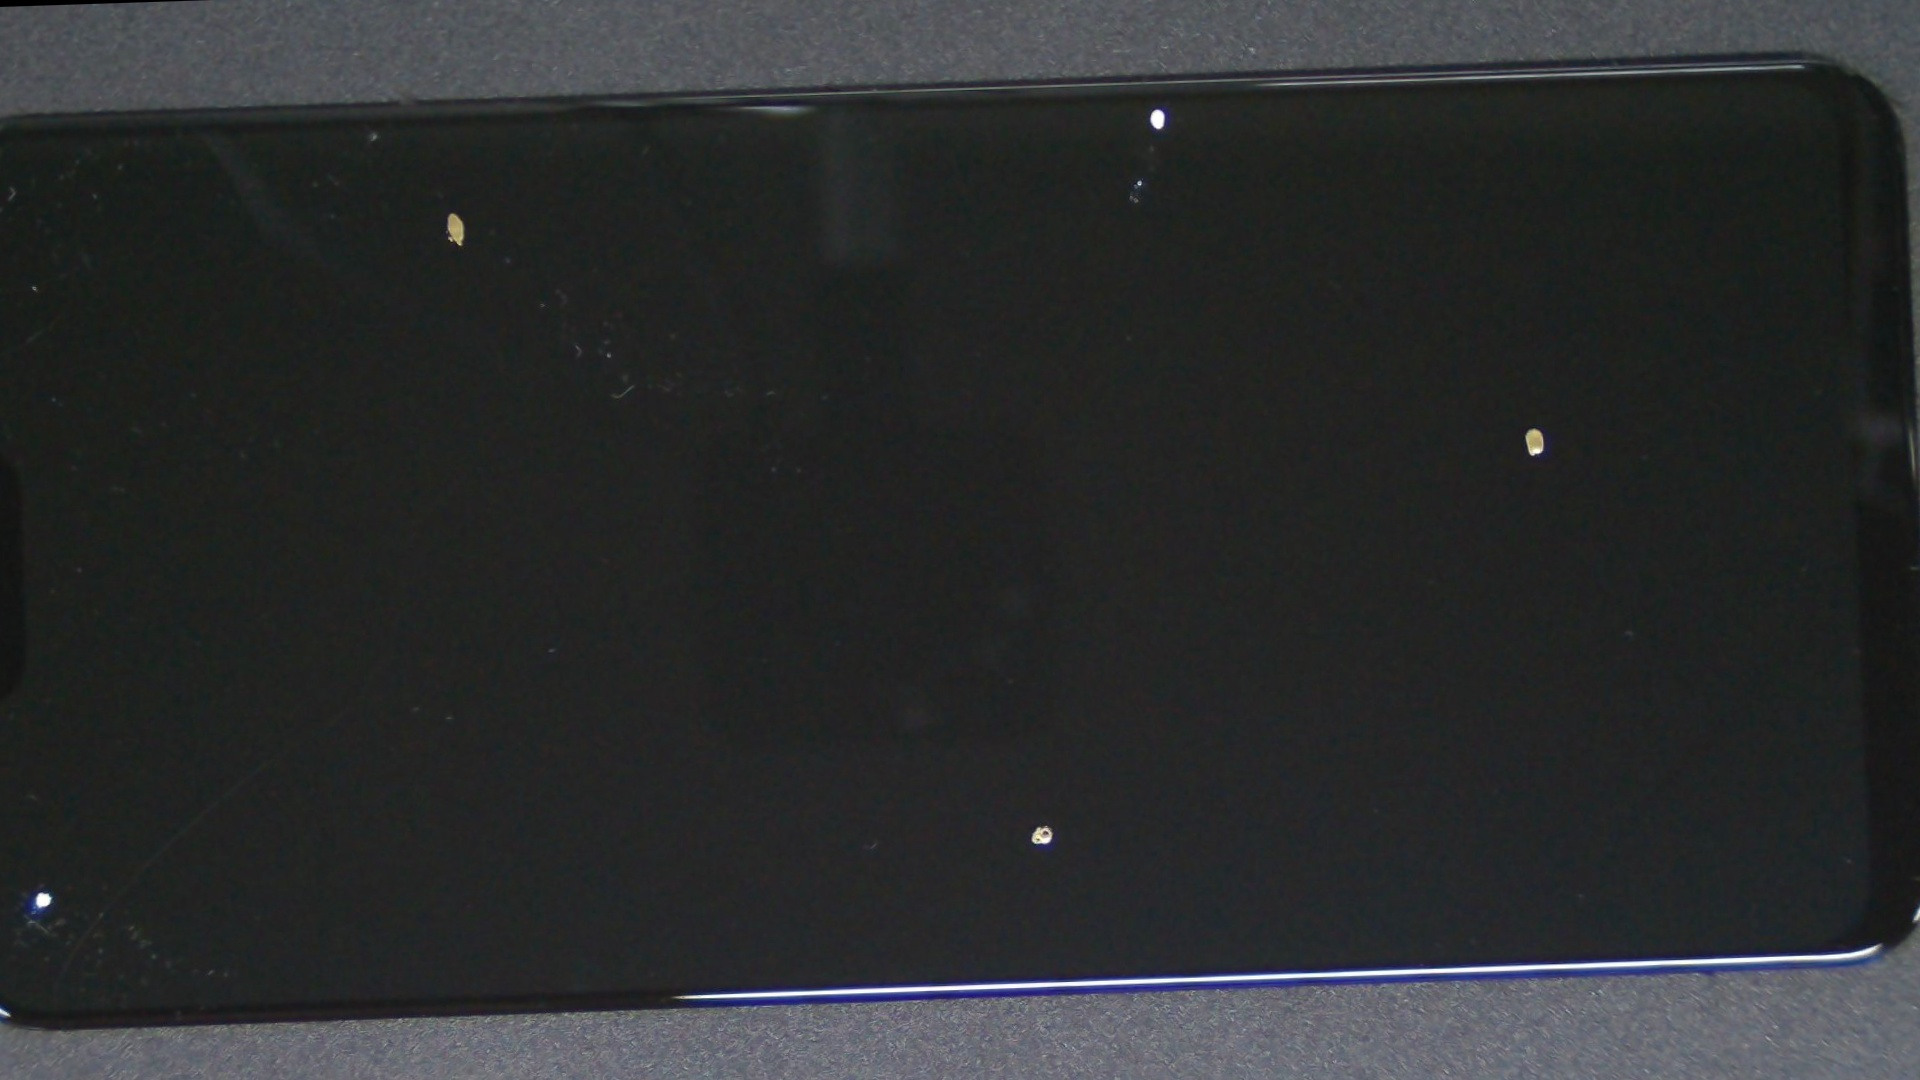oil: (435, 377, 1654, 1080), (679, 177, 1920, 688), (491, 16, 1820, 198), (135, 92, 756, 332), (0, 444, 156, 1080)
